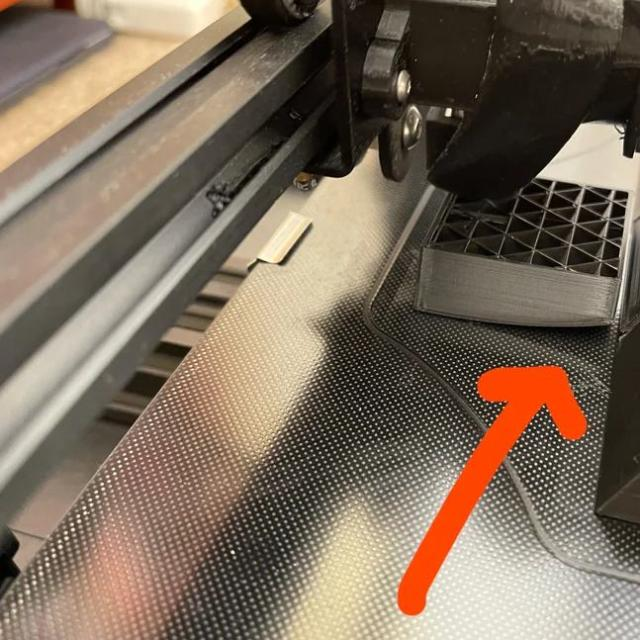warping: (520, 313, 616, 339)
